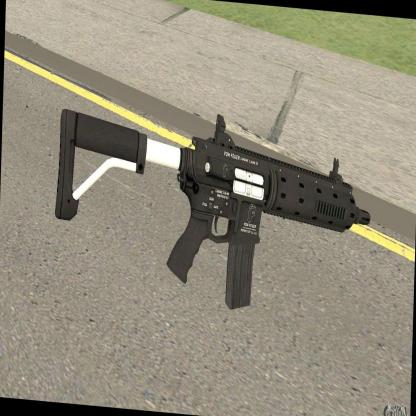rifle: (44, 96, 379, 336)
